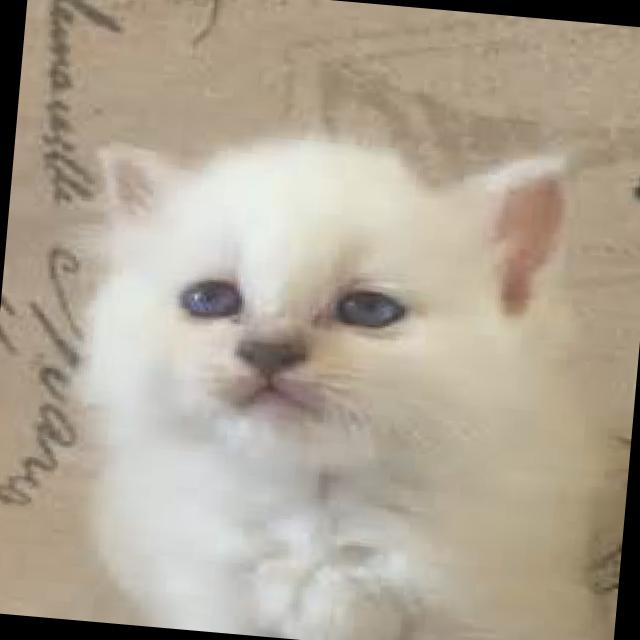cat: (47, 101, 640, 640)
